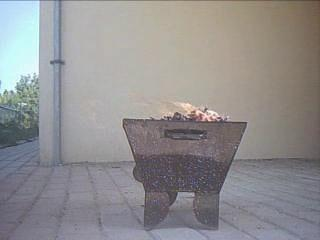fire: (173, 98, 214, 124)
